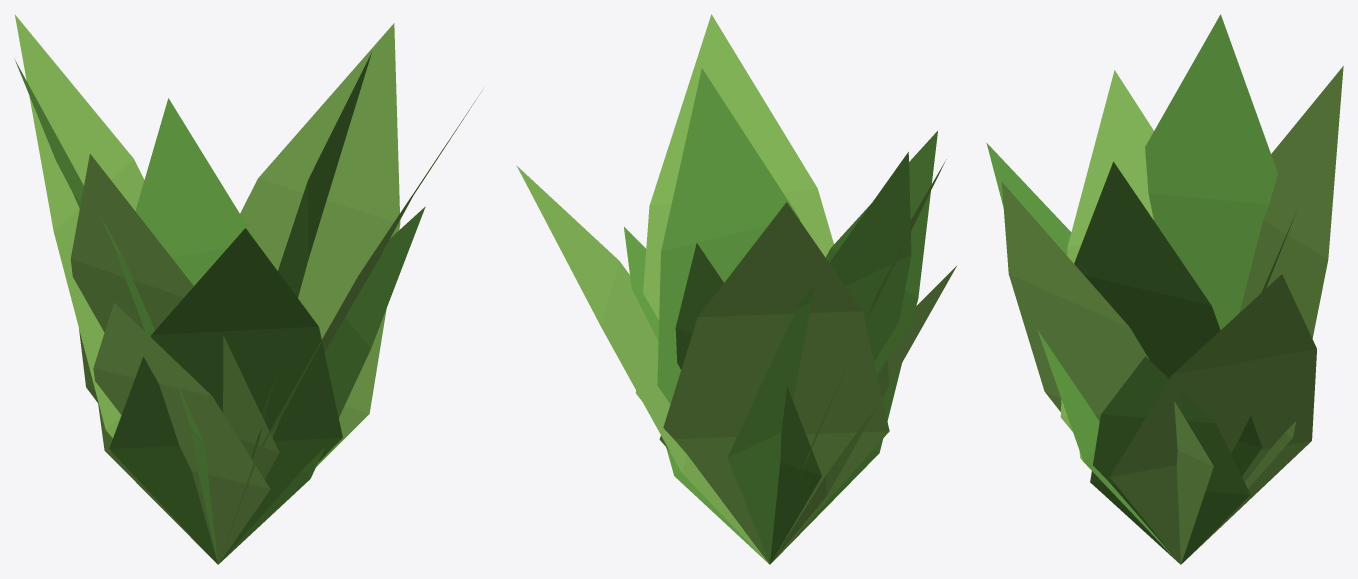
File: romaine.glb
3 renders of one model, left to right at view 1: azimuth 30°, elevation 25°; view 2: azimuth 150°, elevation 25°; view 3: azimuth 270°, elevation 25°, orthographic. The views are drawn at different scales.
Parts seen in each view (by area): view 1: romaine; view 2: romaine; view 3: romaine.
Boxes of the visible parts, x1=… form: romaine: x1=14, y1=15, x2=482, y2=564; romaine: x1=516, y1=14, x2=956, y2=564; romaine: x1=986, y1=14, x2=1343, y2=564.
Bounding box in the file's own units: 0.278 × 0.3424 × 0.2345.
